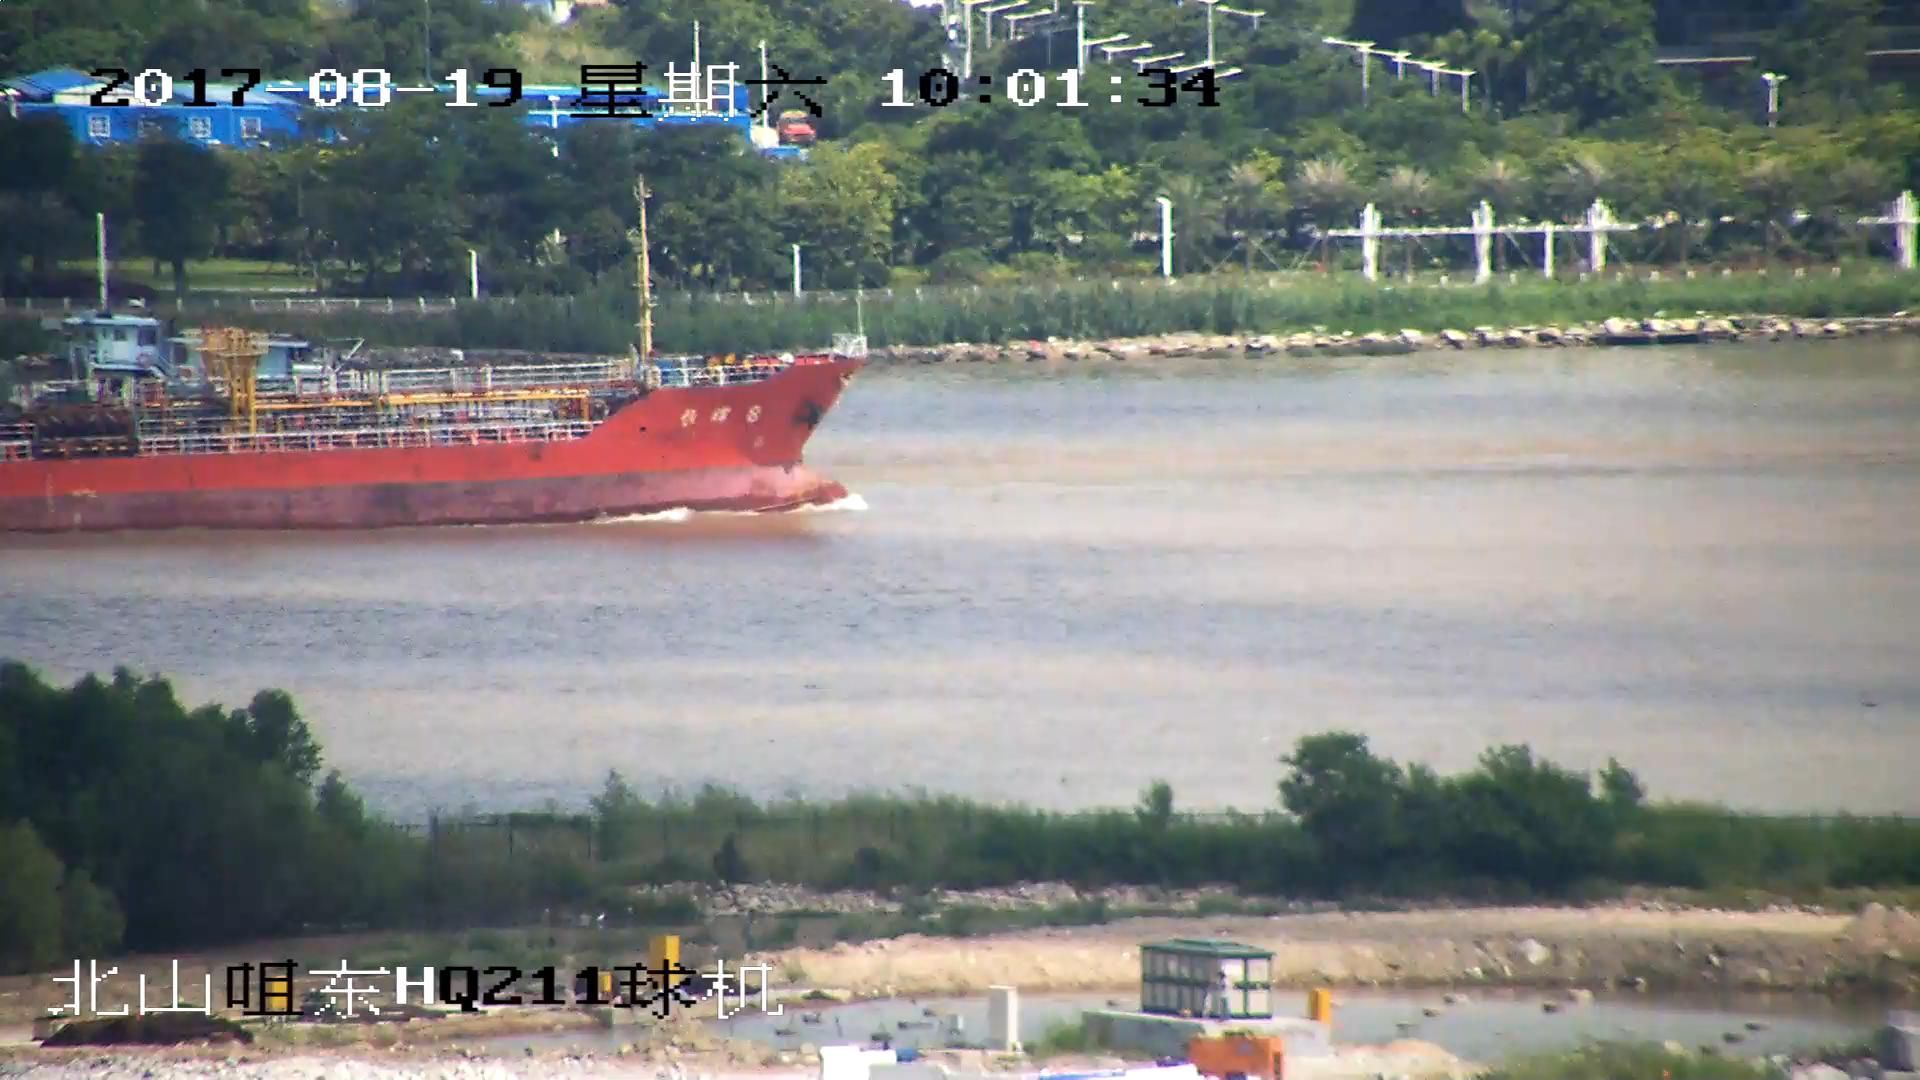Ship: (3, 193, 856, 530)
